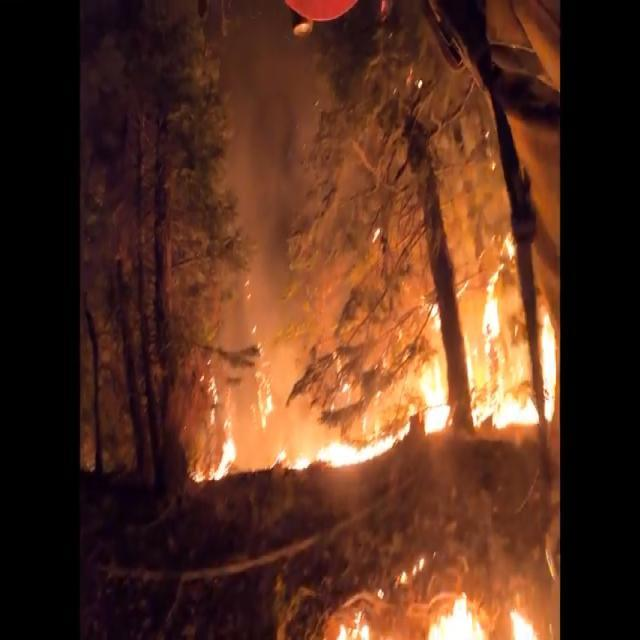Fire: (185, 206, 559, 640)
